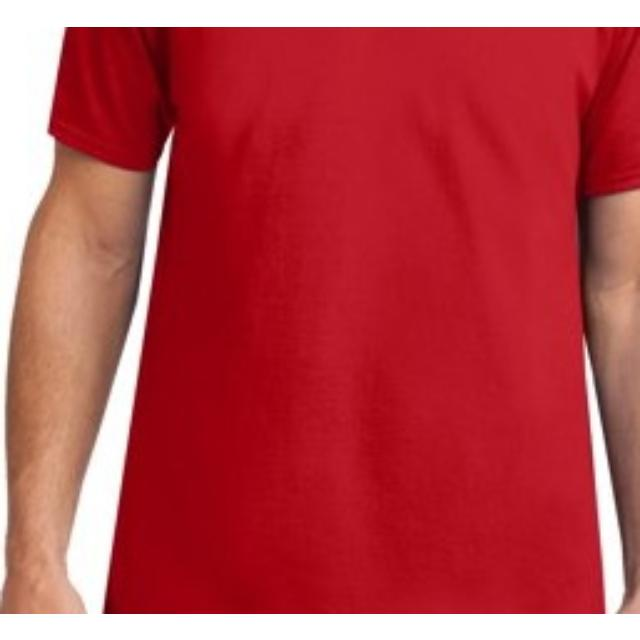polyester: (35, 26, 640, 614)
